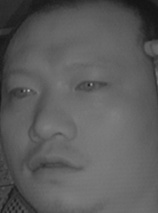eye: (73, 74, 111, 97), (8, 82, 39, 103)
mouth: (24, 147, 80, 179)
